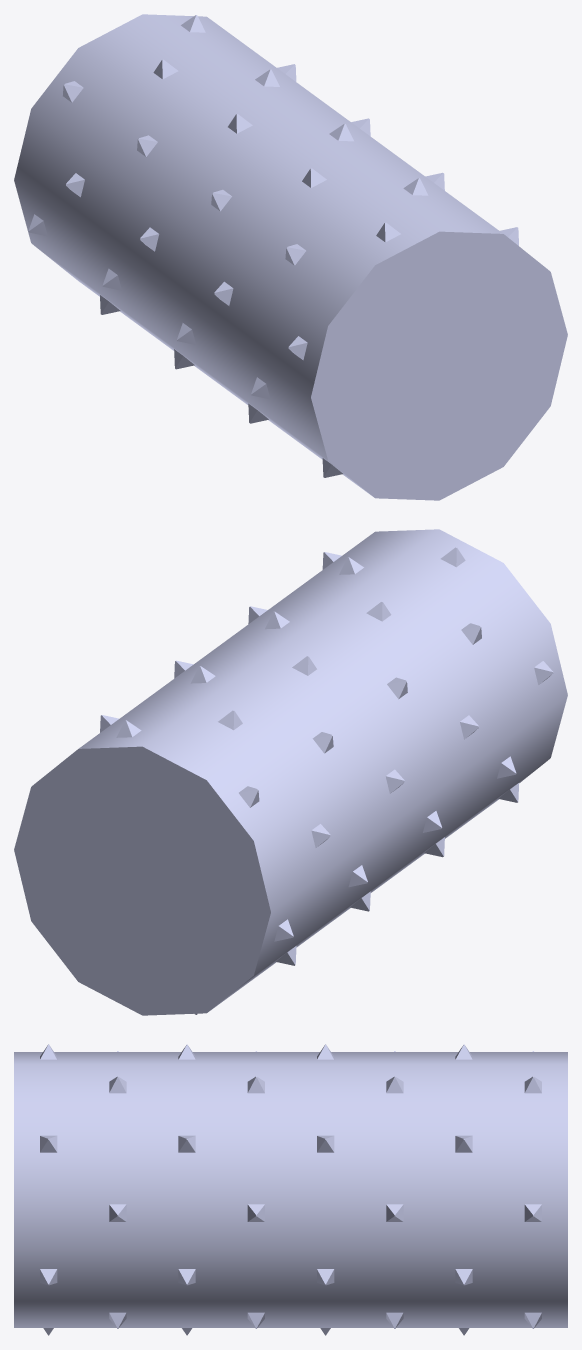
The model's file is grinder.fbx.
The picture shows the model from 3 angles, top to bottom: view 1: azimuth 30°, elevation 25°; view 2: azimuth 150°, elevation 25°; view 3: azimuth 270°, elevation 25°; orthographic projection. The views are drawn at different scales.
Parts seen in each view (by area): view 1: grinder; view 2: grinder; view 3: grinder.
Part boxes in pixels (box(x1,y1,x2,y2)): grinder: box(14, 14, 567, 500); grinder: box(14, 529, 567, 1015); grinder: box(14, 1052, 567, 1327).
Bounding box in the file's own units: 65.52 × 65.52 × 127.
